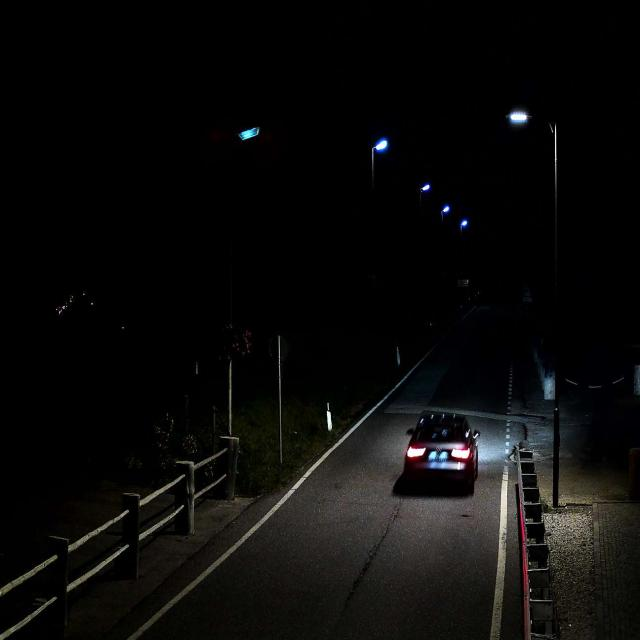car: (404, 409, 481, 486)
